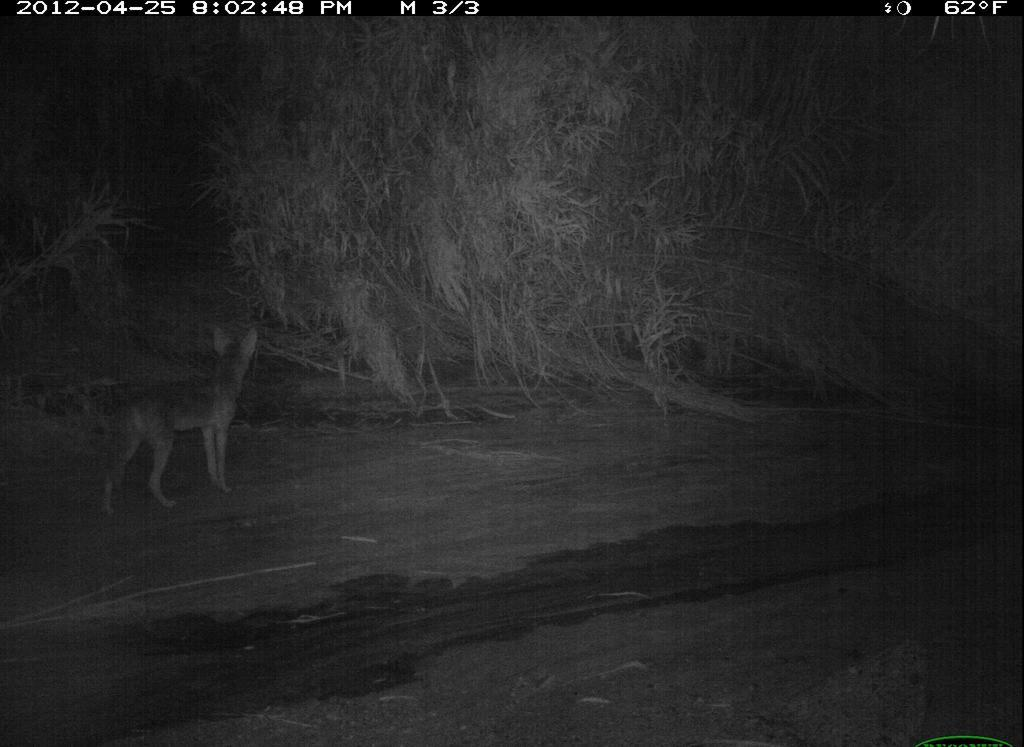coyote: (85, 314, 264, 524)
